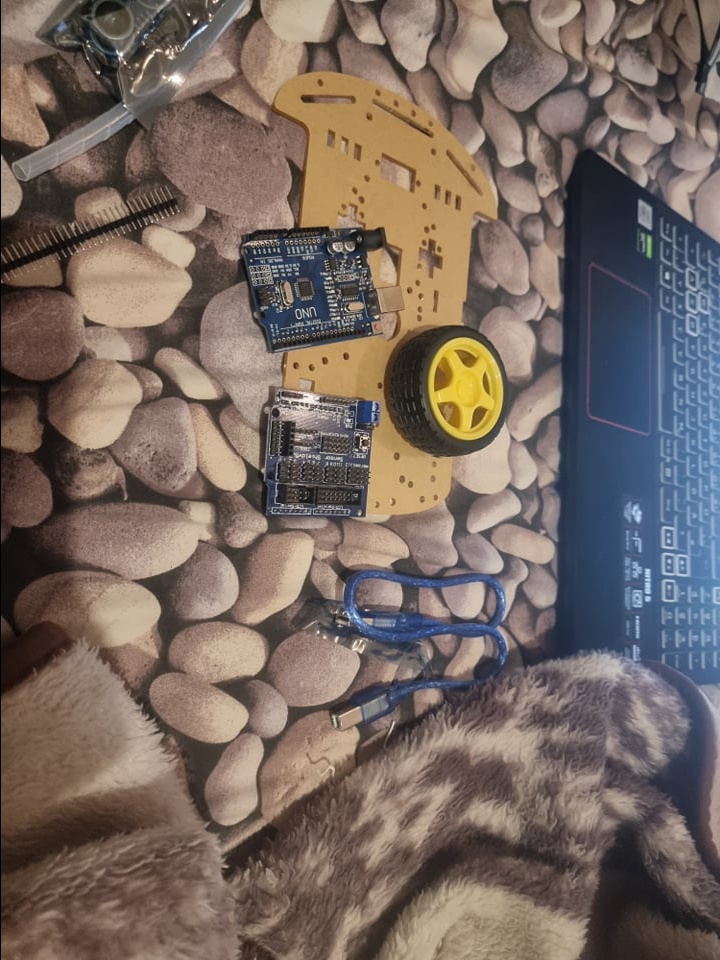5V EXPANSION: (262, 387, 378, 519)
SENSOR: (72, 1, 168, 60)
UNO R3: (236, 226, 404, 352)
